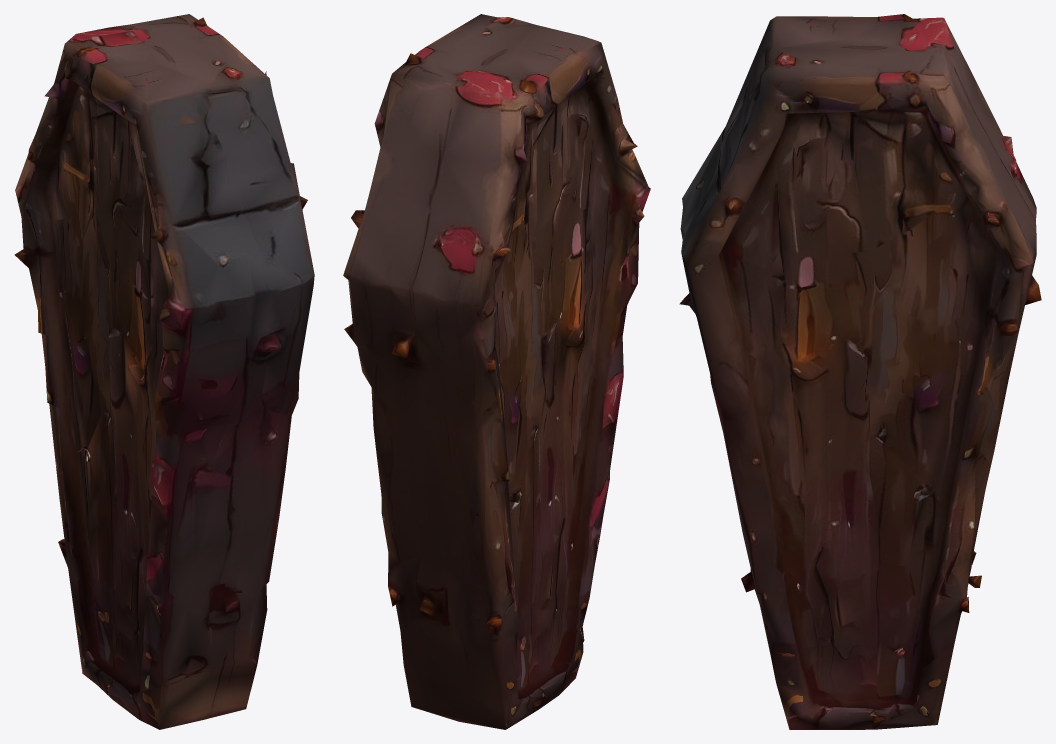
File: coffin.glb
3 renders of one model, left to right at view 1: azimuth 30°, elevation 25°; view 2: azimuth 150°, elevation 25°; view 3: azimuth 270°, elevation 25°, orthographic. The views are drawn at different scales.
Parts seen in each view (by area): view 1: tripo_node_0206822d-7663-4b25-a68e-60b3ddfa6d4b; view 2: tripo_node_0206822d-7663-4b25-a68e-60b3ddfa6d4b; view 3: tripo_node_0206822d-7663-4b25-a68e-60b3ddfa6d4b.
Part boxes in pixels (x1=…): tripo_node_0206822d-7663-4b25-a68e-60b3ddfa6d4b: x1=14, y1=14, x2=314, y2=729; tripo_node_0206822d-7663-4b25-a68e-60b3ddfa6d4b: x1=343, y1=14, x2=650, y2=729; tripo_node_0206822d-7663-4b25-a68e-60b3ddfa6d4b: x1=679, y1=14, x2=1041, y2=729.
Bounding box in the file's own units: 0.2545 × 0.9994 × 0.4908.
Materials: 1 (1 with a texture image).
